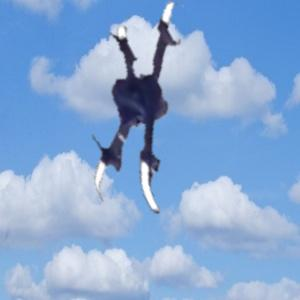drone: (56, 7, 265, 216)
